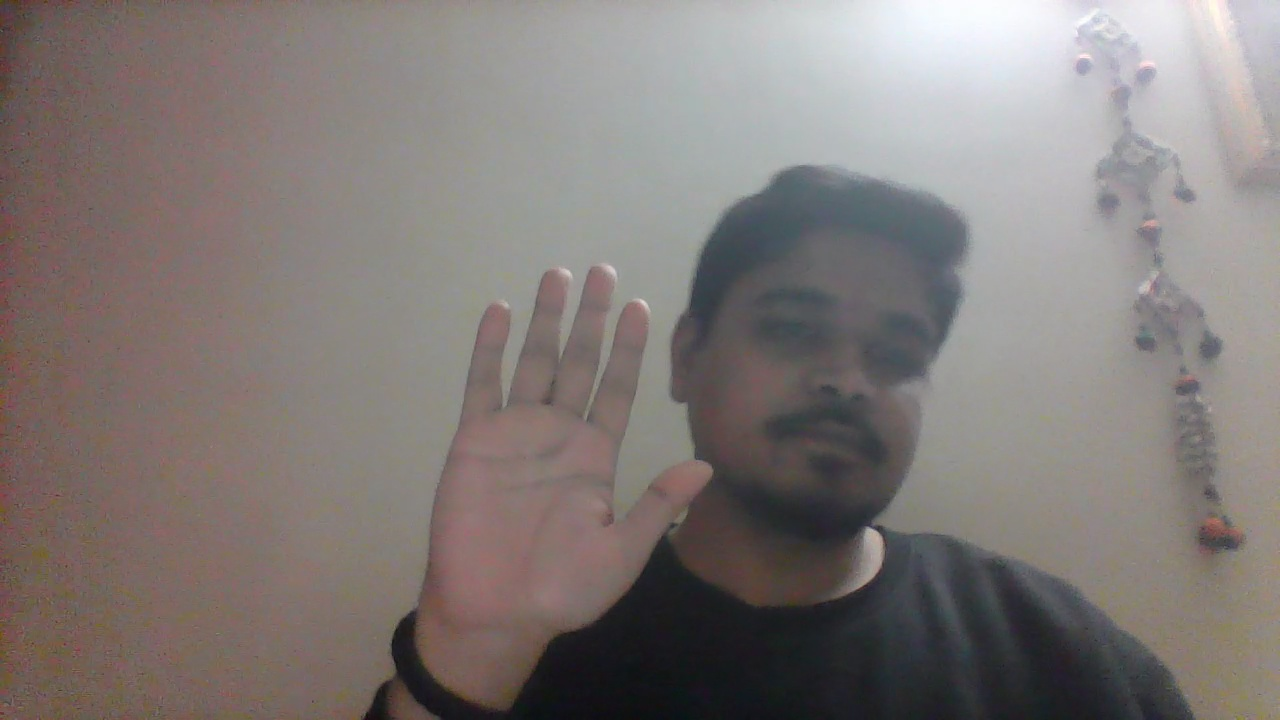Hello: (418, 259, 716, 657)
